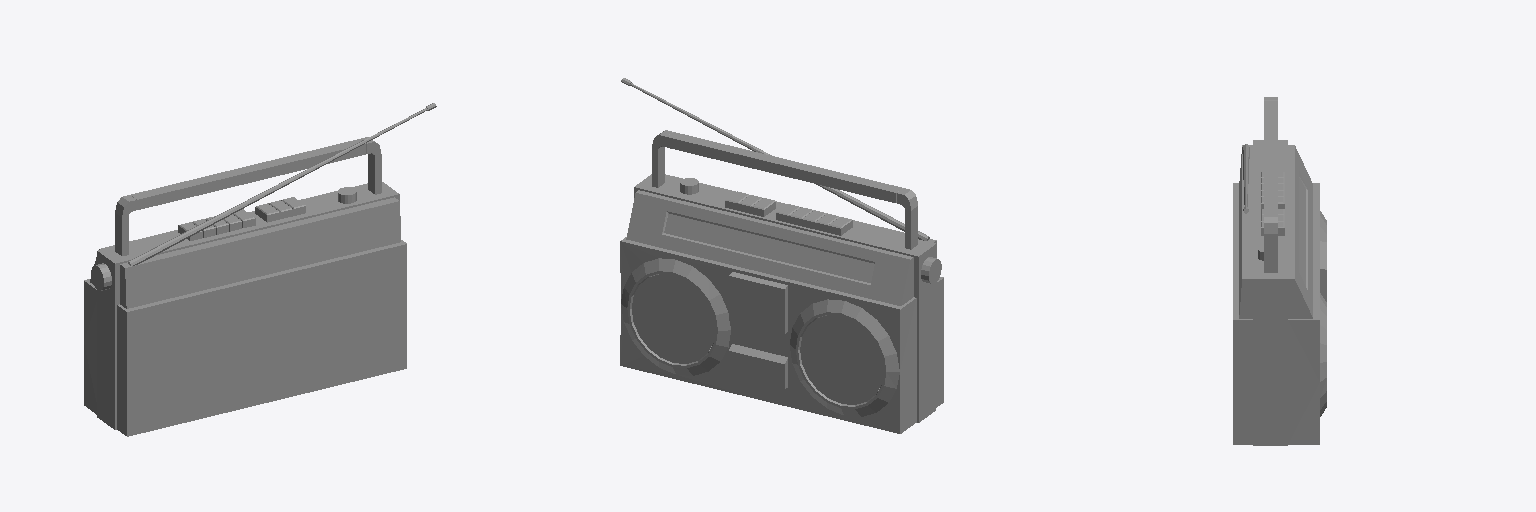
3 renders of one model, left to right at view 1: azimuth 30°, elevation 25°; view 2: azimuth 150°, elevation 25°; view 3: azimuth 270°, elevation 25°, orthographic.
Parts seen in each view (by area): view 1: Radio_20_-_Default_0; view 2: Radio_20_-_Default_0; view 3: Radio_20_-_Default_0.
Boxes of the visible parts, x1,y1,x2,y2 form: Radio_20_-_Default_0: [84, 103, 436, 436]; Radio_20_-_Default_0: [620, 78, 943, 433]; Radio_20_-_Default_0: [1233, 97, 1326, 445].
Size of the model in its own units: 1.69 by 1.25 by 0.4259.